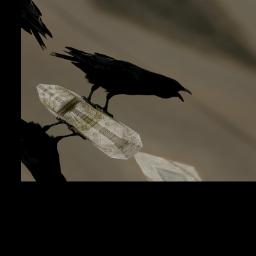Crow: (34, 20, 194, 140)
